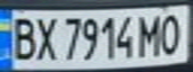1: (100, 13, 118, 60)
4: (115, 11, 139, 60)
7: (60, 12, 81, 62)
9: (78, 12, 100, 61)
B: (6, 14, 39, 62)
M: (136, 11, 166, 57)
O: (157, 10, 187, 56)
X: (30, 12, 60, 62)
